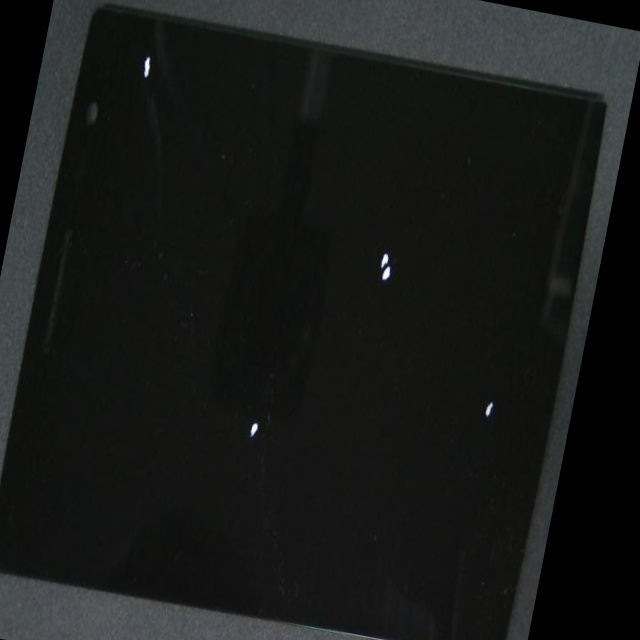stain: (157, 165, 606, 640), (137, 74, 598, 492), (51, 133, 431, 640), (90, 0, 205, 108)
